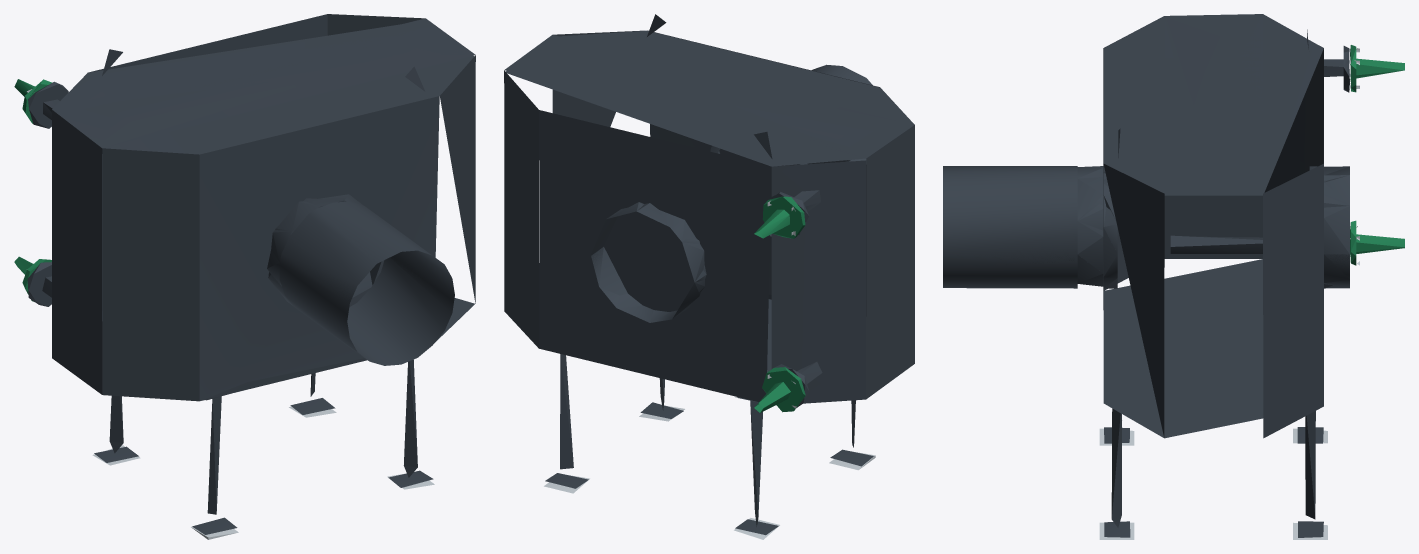
The model's file is economizer.glb.
The picture shows the model from 3 angles, left to right: view 1: azimuth 30°, elevation 25°; view 2: azimuth 150°, elevation 25°; view 3: azimuth 270°, elevation 25°; orthographic projection. The views are drawn at different scales.
Visible parts, largest first — view 1: economizer, flue_spacer, eco_inlet_adapter, economizer_leveling; view 2: economizer, eco_inlet_adapter, economizer_leveling, flue_spacer; view 3: economizer, flue_spacer, eco_inlet_adapter, economizer_leveling.
Part boxes in pixels (x1,y1,x2,y2): economizer: (27,14,475,534); flue_spacer: (279,201,454,365); eco_inlet_adapter: (14,79,51,301); economizer_leveling: (92,406,434,539); economizer: (504,14,914,535); eco_inlet_adapter: (754,196,805,412); economizer_leveling: (544,406,875,539); flue_spacer: (811,64,872,85); economizer: (1077,14,1349,537); flue_spacer: (943,166,1077,288); eco_inlet_adapter: (1349,45,1404,265); economizer_leveling: (1099,428,1327,539).
Bounding box in the file's own units: 1.58 × 1.67 × 1.72.
